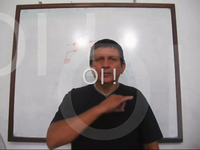oi: (101, 92, 136, 116)
